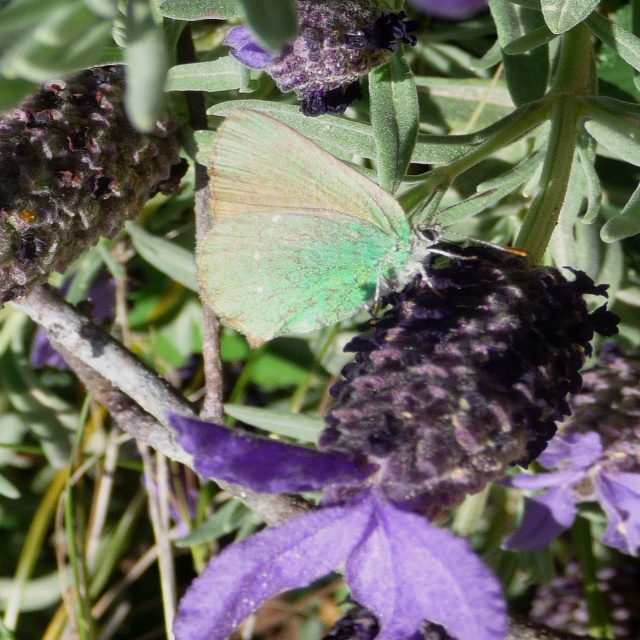Butterfly: (177, 108, 528, 348)
